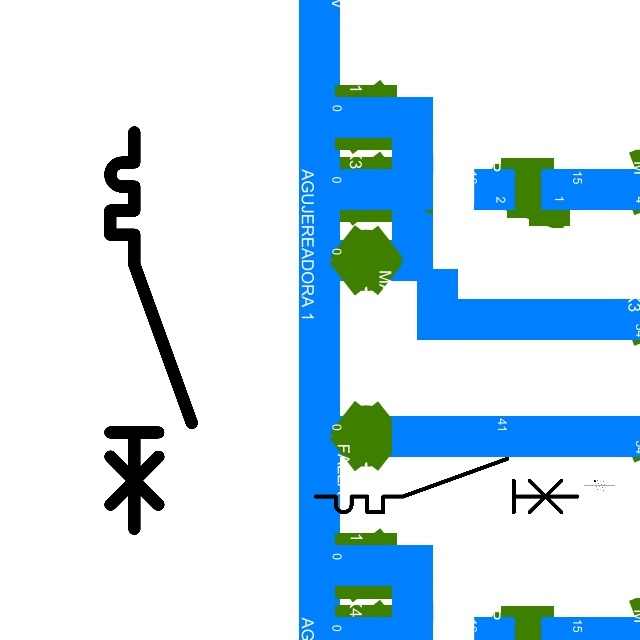interruptor_termomagnetico: (100, 122, 202, 539), (309, 452, 584, 519)
